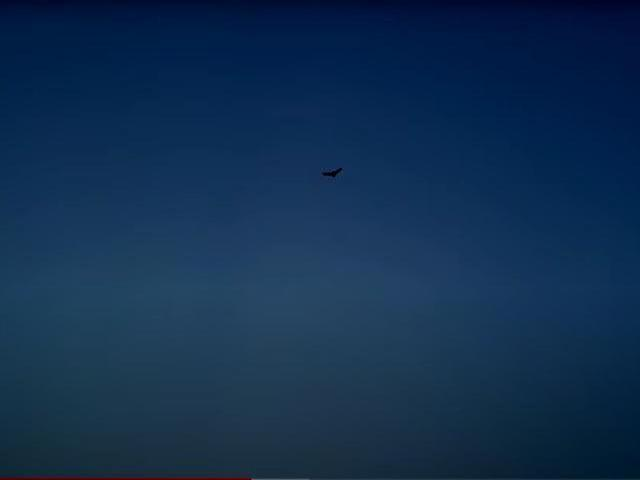iha: (324, 164, 342, 178)
